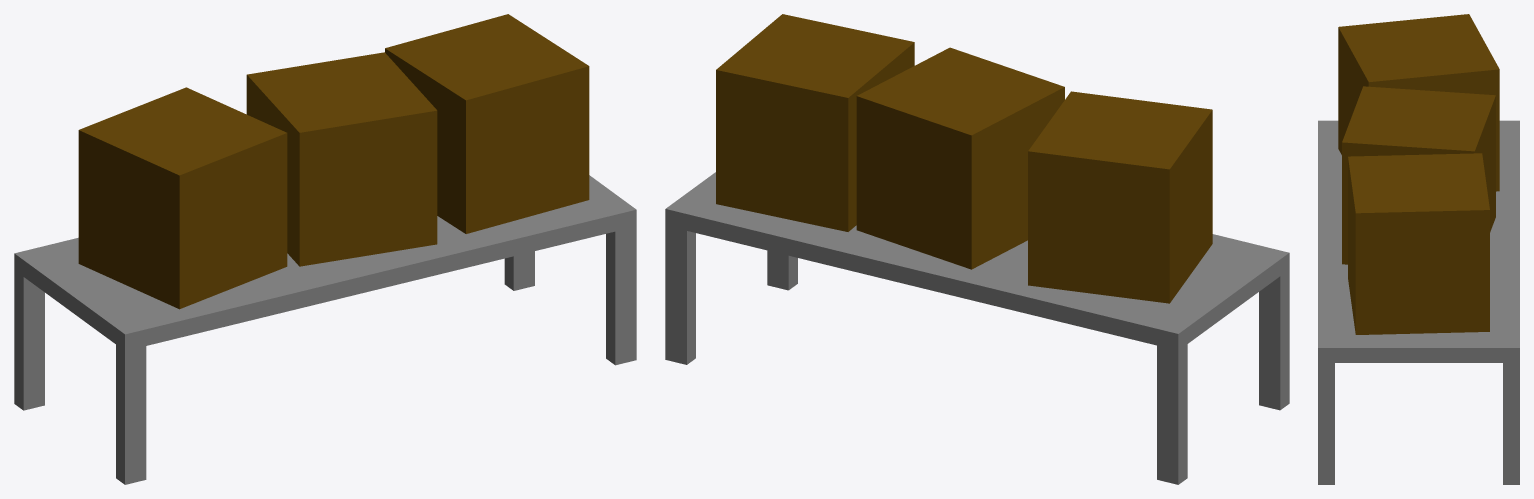
The model's file is shelve.fbx.
The picture shows the model from 3 angles, left to right: view 1: azimuth 30°, elevation 25°; view 2: azimuth 150°, elevation 25°; view 3: azimuth 270°, elevation 25°; orthographic projection. The views are drawn at different scales.
Visible parts, largest first — view 1: Cube, Cube.001, Cube.003, Cube.002; view 2: Cube, Cube.001, Cube.002, Cube.003; view 3: Cube.003, Cube, Cube.001, Cube.002.
Boxes of the visible parts, left/top/right/bottom form: Cube: left=14, top=175, right=636, bottom=484; Cube.001: left=78, top=87, right=287, bottom=309; Cube.003: left=385, top=14, right=589, bottom=233; Cube.002: left=246, top=52, right=437, bottom=266; Cube: left=665, top=172, right=1289, bottom=484; Cube.001: left=1028, top=91, right=1212, bottom=303; Cube.002: left=856, top=47, right=1064, bottom=269; Cube.003: left=716, top=14, right=914, bottom=231; Cube.003: left=1348, top=153, right=1489, bottom=334; Cube: left=1318, top=120, right=1519, bottom=484; Cube.001: left=1338, top=14, right=1499, bottom=191; Cube.002: left=1342, top=86, right=1495, bottom=264.
Size of the model in its own units: 400 by 213 by 150.
